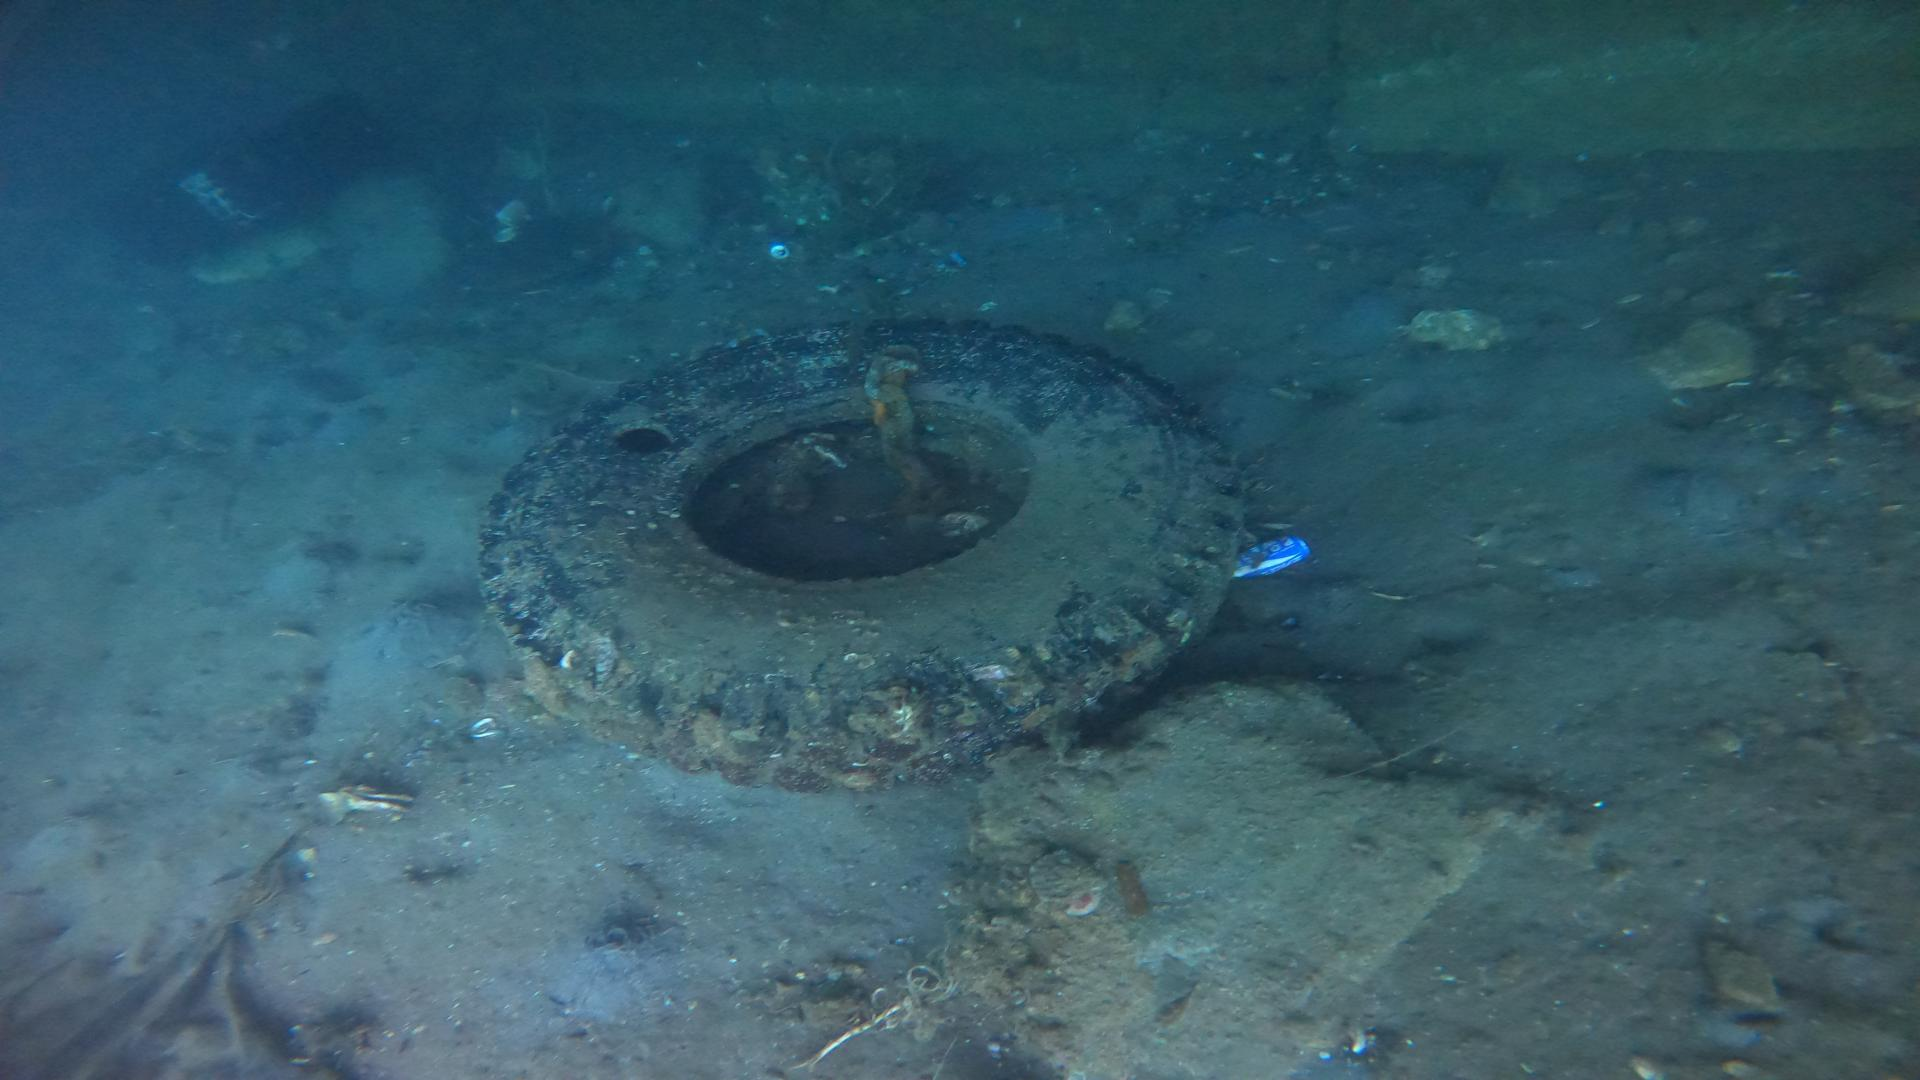tire: (477, 316, 1244, 782)
